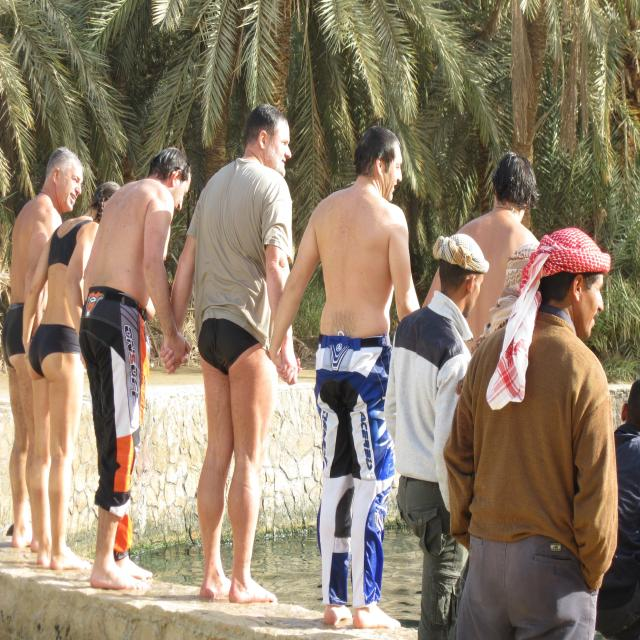body: (268, 122, 448, 634), (442, 224, 620, 640), (161, 104, 299, 604), (77, 145, 192, 592), (382, 232, 490, 640), (20, 181, 124, 572), (0, 144, 85, 549), (0, 538, 328, 638), (416, 148, 543, 356), (598, 376, 640, 640)
